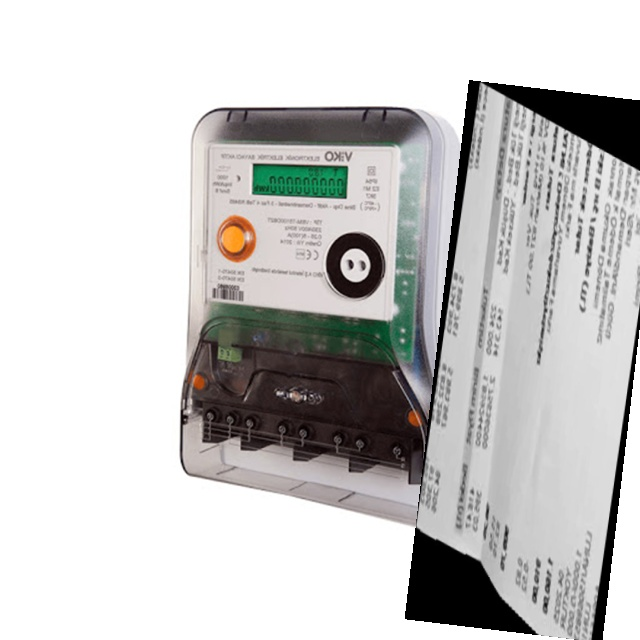electricity-bill: (404, 80, 640, 640)
